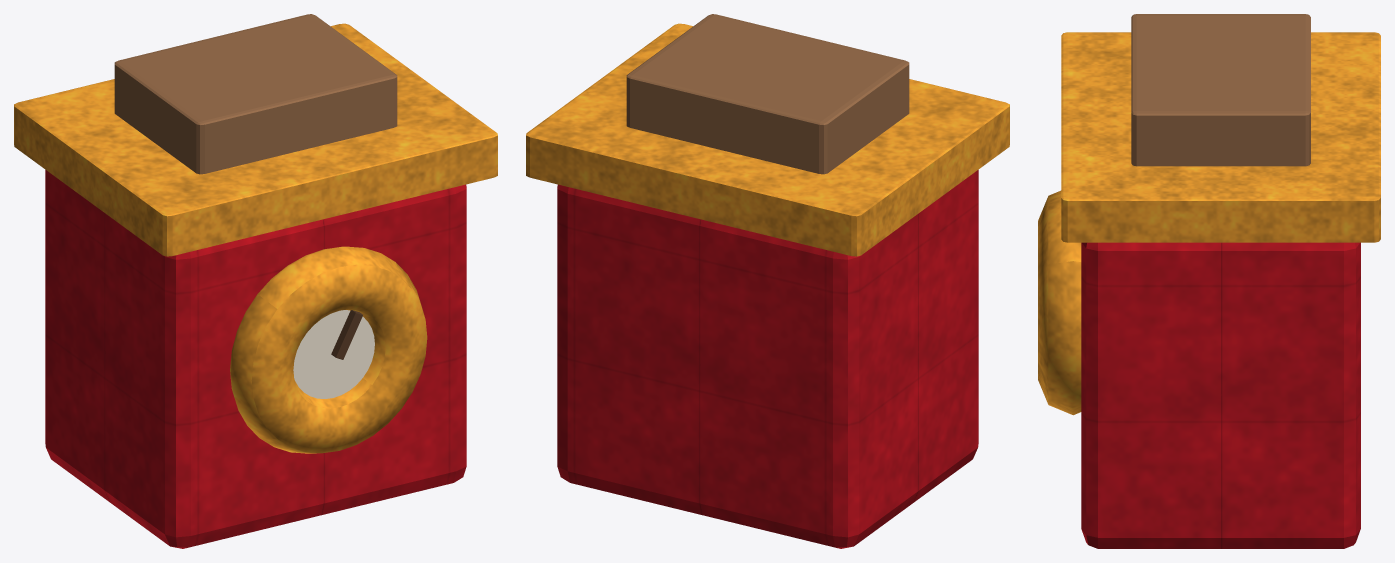
File: CHO_ExitLever.fbx
The picture shows the model from 3 angles, left to right: view 1: azimuth 30°, elevation 25°; view 2: azimuth 150°, elevation 25°; view 3: azimuth 270°, elevation 25°; orthographic projection. The views are drawn at different scales.
Parts seen in each view (by area): view 1: CHO_ExitLever; view 2: CHO_ExitLever; view 3: CHO_ExitLever.
Boxes of the visible parts, bbox=[...] form: CHO_ExitLever: bbox=[14, 14, 497, 548]; CHO_ExitLever: bbox=[526, 14, 1009, 548]; CHO_ExitLever: bbox=[1038, 14, 1380, 548].
Bounding box in the file's own units: 1 × 1.16 × 0.858.
